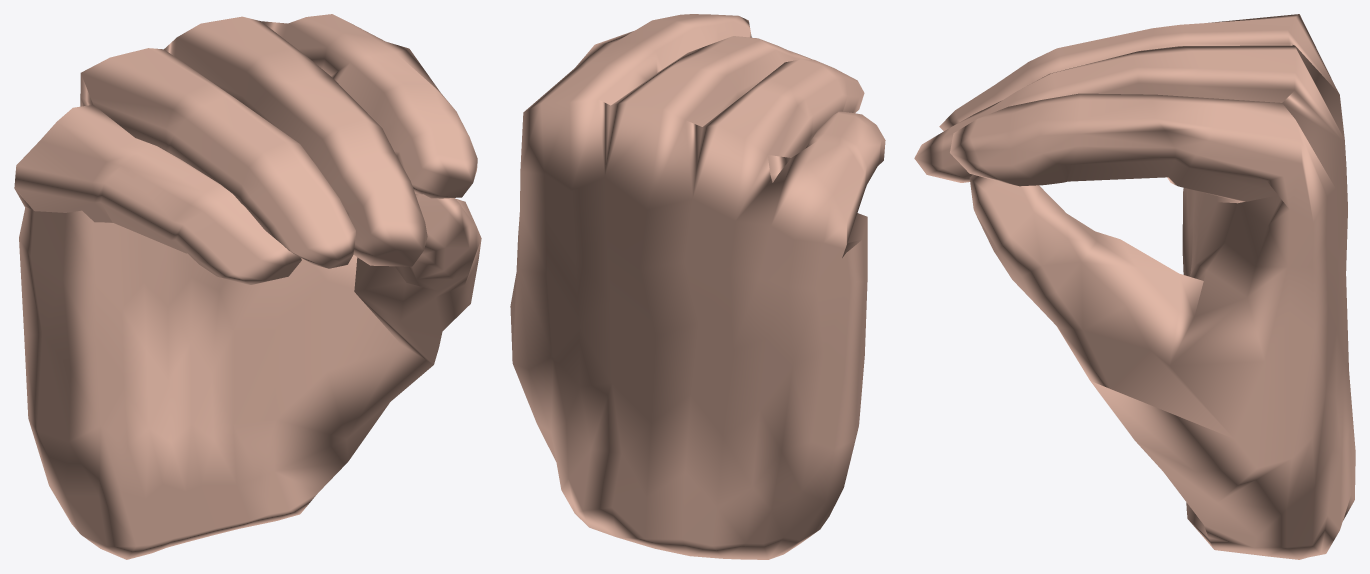
File: ANGULO_FECHADO.obj
3 views of the same model, side by side, from view 1: azimuth 30°, elevation 25°; view 2: azimuth 150°, elevation 25°; view 3: azimuth 270°, elevation 25° (orthographic). The views are drawn at different scales.
Parts seen in each view (by area): view 1: mao_dir:mao_dir; view 2: mao_dir:mao_dir; view 3: mao_dir:mao_dir.
Part boxes in pixels (x1,y1,x2,y2): mao_dir:mao_dir: [14, 14, 481, 559]; mao_dir:mao_dir: [510, 14, 885, 559]; mao_dir:mao_dir: [914, 14, 1355, 559].
Size of the model in its own units: 130 by 149 by 125.
